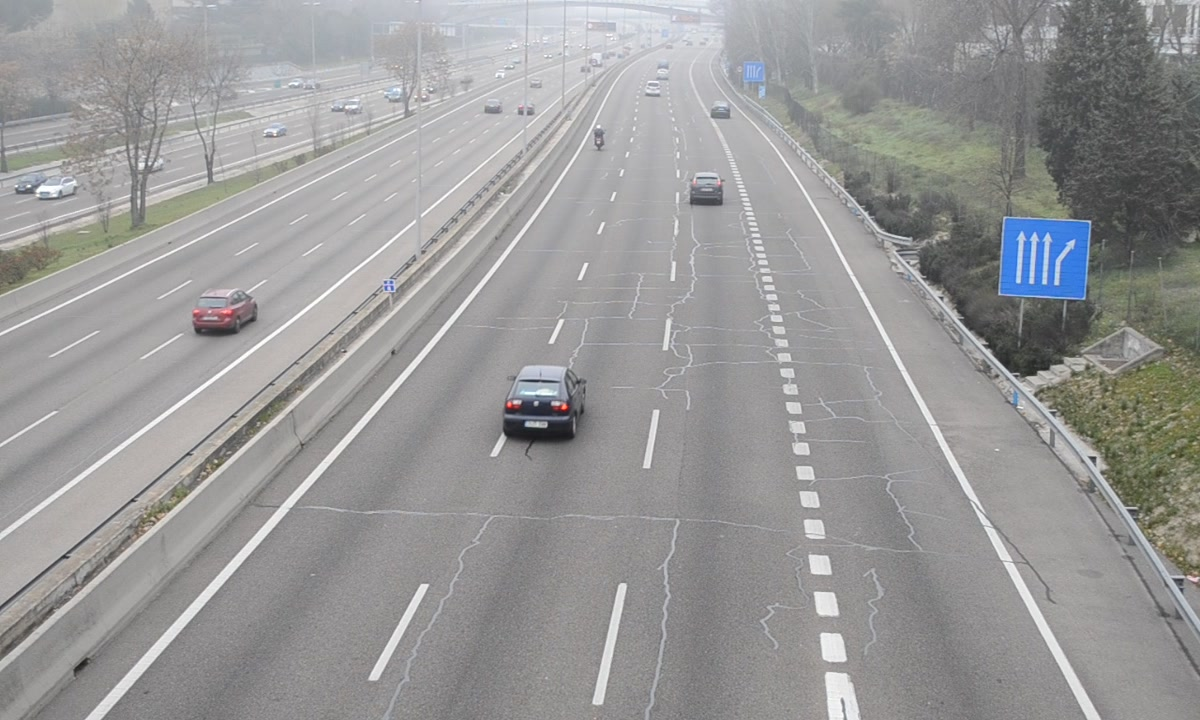car: (506, 362, 586, 440), (687, 171, 725, 207), (710, 101, 730, 119)
motorcycle: (591, 125, 604, 155)
